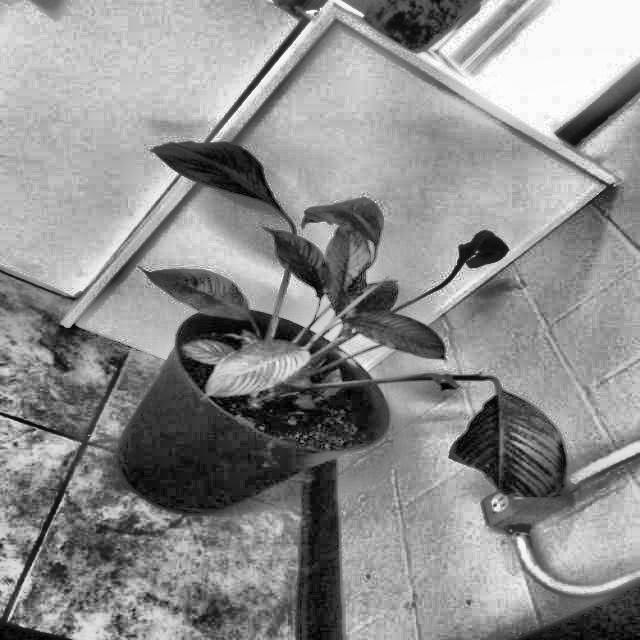plants: (145, 126, 586, 532), (396, 358, 582, 501)
